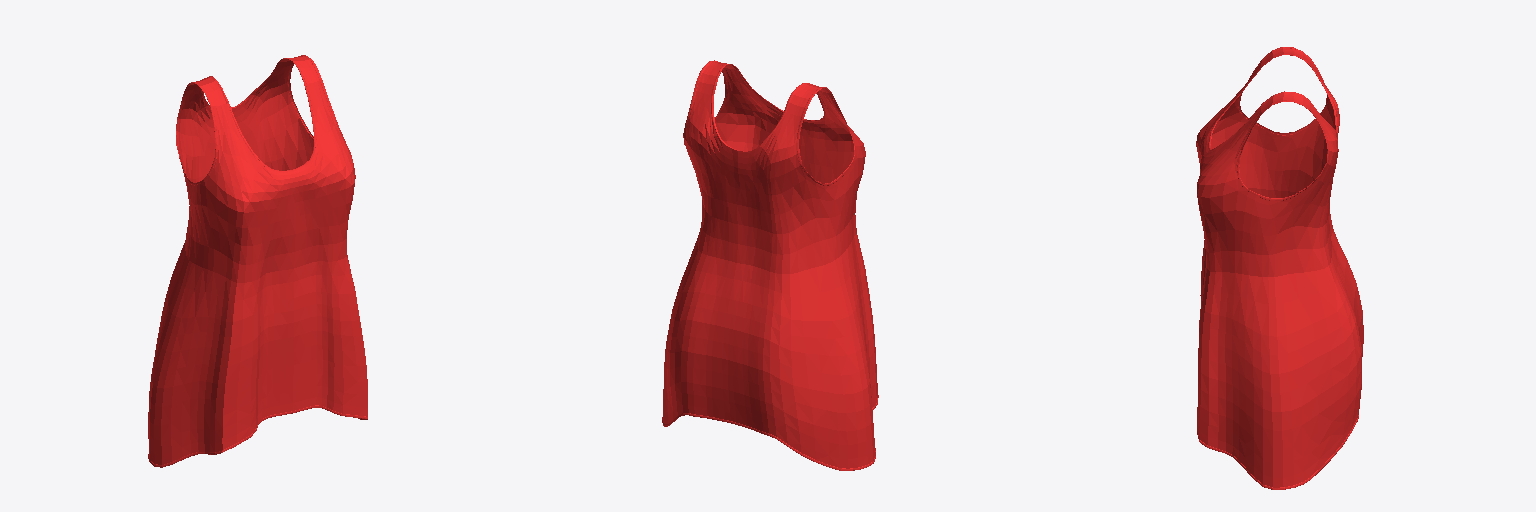
Rendered from TeeUnrigged2.obj.
3 renders of one model, left to right at view 1: azimuth 30°, elevation 25°; view 2: azimuth 150°, elevation 25°; view 3: azimuth 270°, elevation 25°, orthographic.
Parts seen in each view (by area): view 1: Tee_S; view 2: Tee_S; view 3: Tee_S.
Part boxes in pixels (left/top/right/bottom): Tee_S: left=148, top=55, right=367, bottom=467; Tee_S: left=662, top=60, right=878, bottom=470; Tee_S: left=1196, top=47, right=1363, bottom=489.
Bounding box in the file's own units: 0.4548 × 0.7677 × 0.3169.